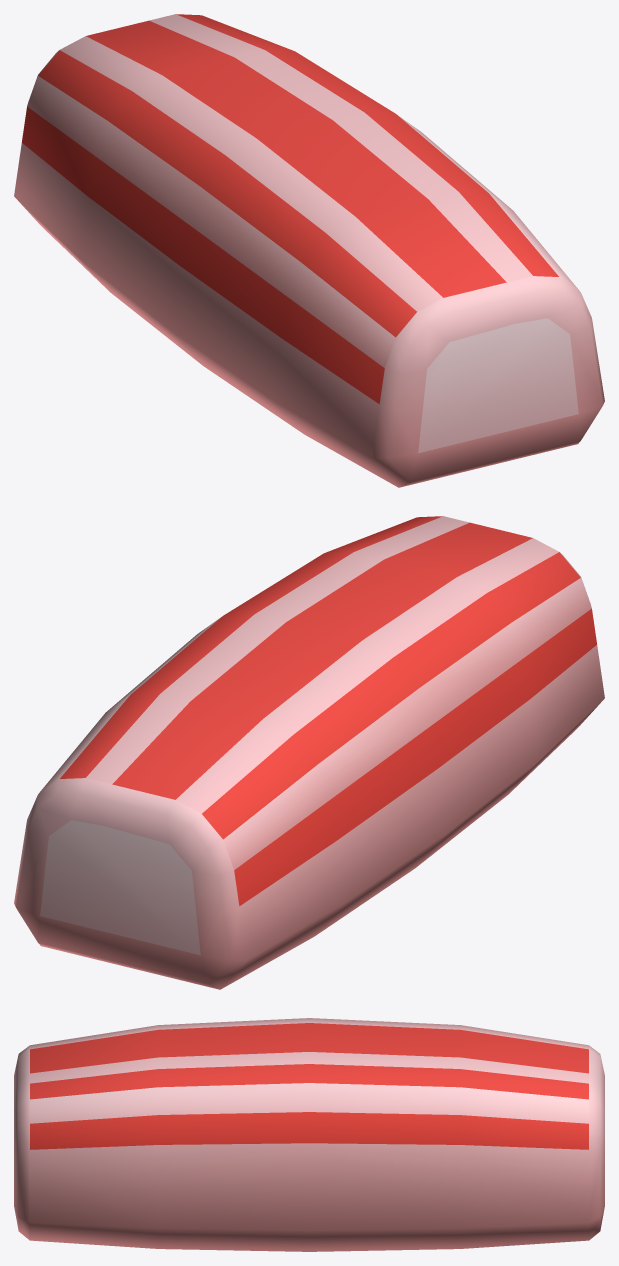
3 renders of one model, top to bottom at view 1: azimuth 30°, elevation 25°; view 2: azimuth 150°, elevation 25°; view 3: azimuth 270°, elevation 25°, orthographic. The views are drawn at different scales.
Visible parts, largest first — view 1: 10-4; view 2: 10-4; view 3: 10-4.
Boxes of the visible parts, <box> form: 10-4: <box>14,14,604,487</box>; 10-4: <box>14,516,604,989</box>; 10-4: <box>14,1018,604,1251</box>.
Size of the model in its own units: 4.76 by 3.49 by 11.17.
